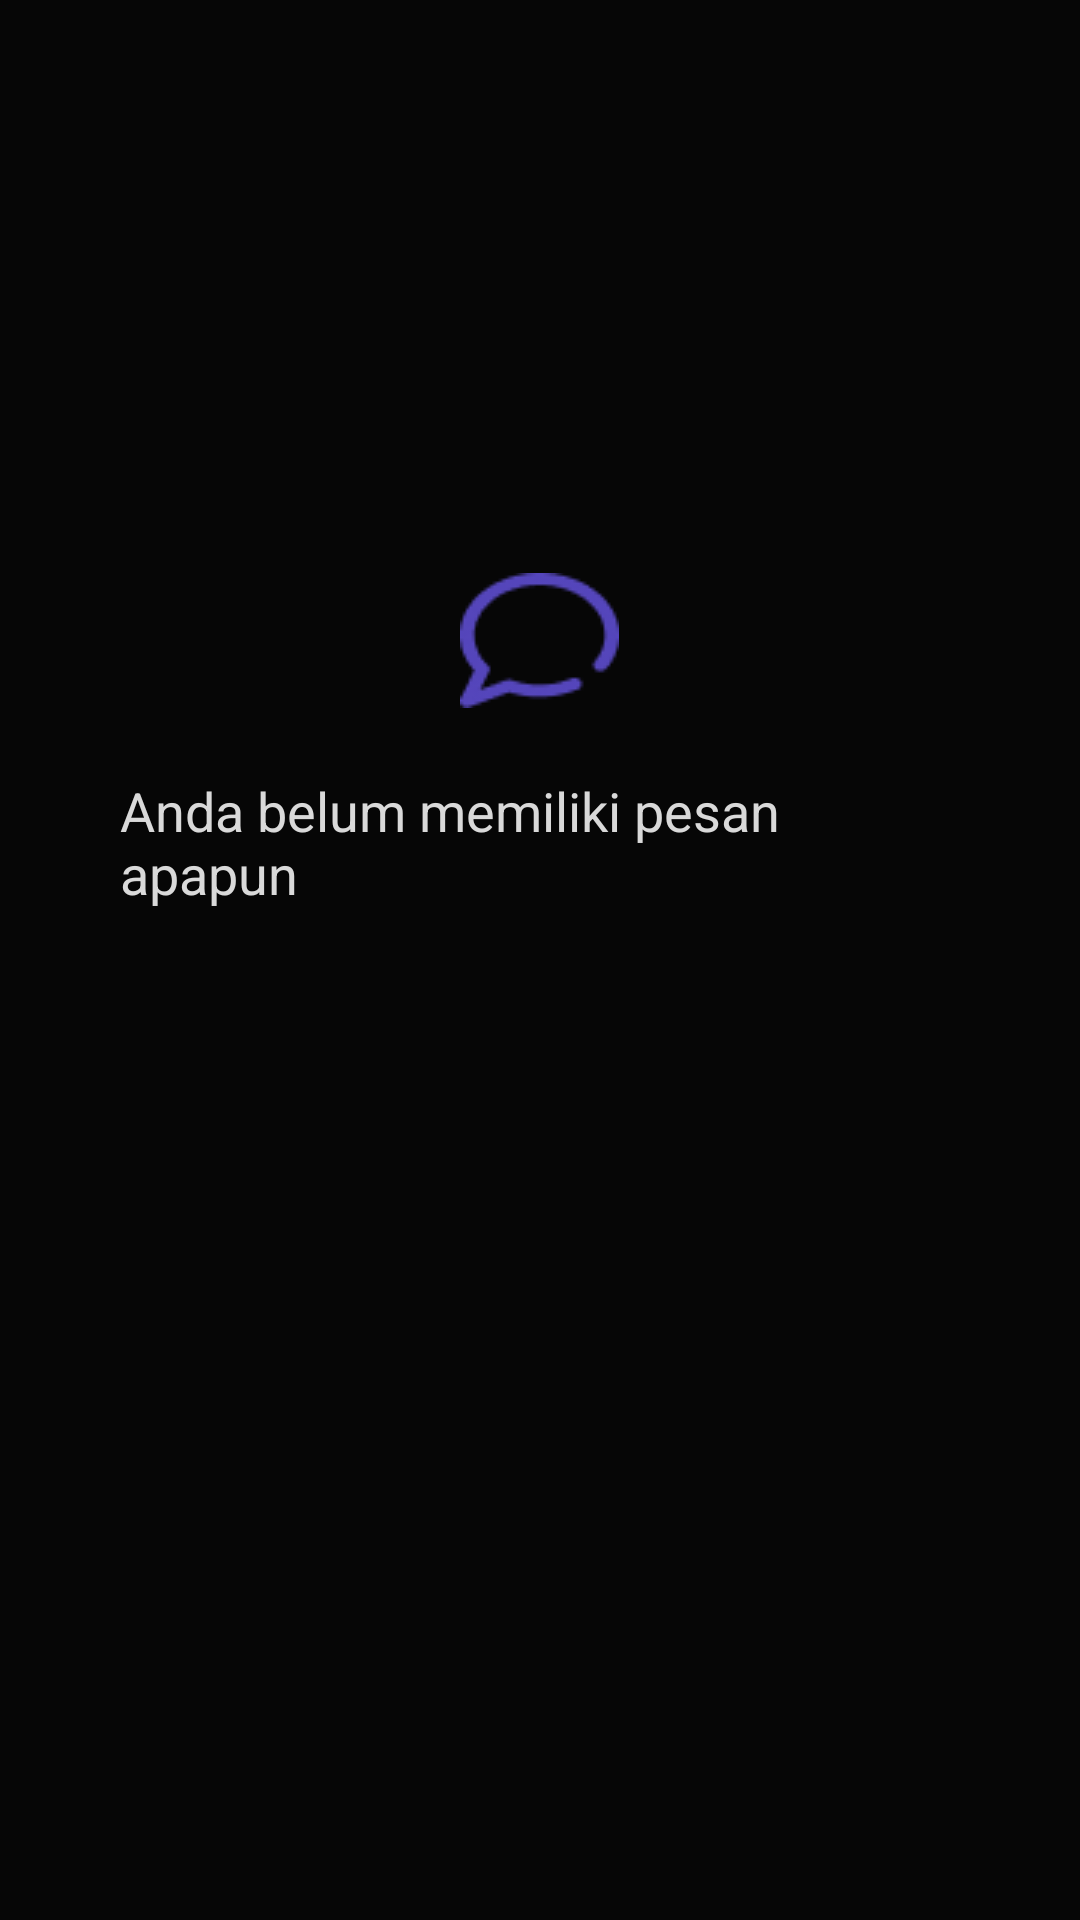

Screen size 1080px x 1920px. Icon name, then its center in pixels as (x=x, y=y):
chat: (x=539, y=640)
